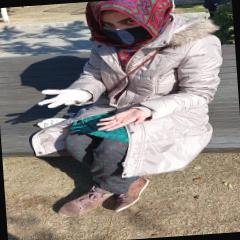gloved: (39, 86, 86, 108)
not-gloved: (95, 110, 144, 132)
